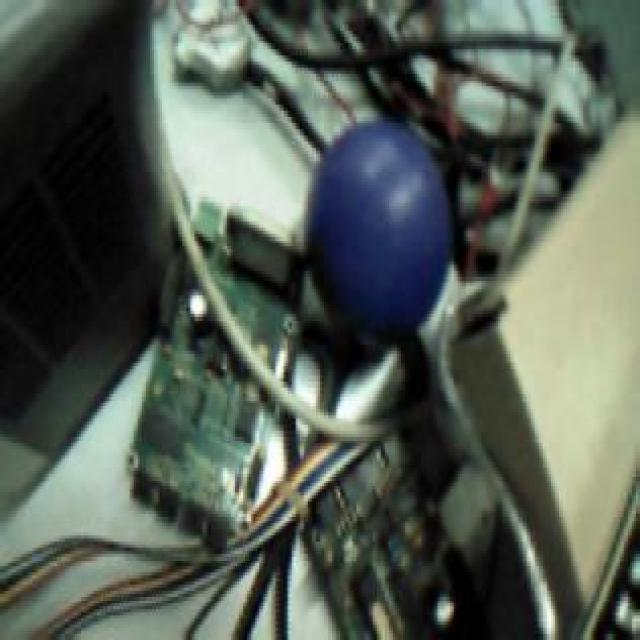BallPurple: (306, 116, 449, 328)
